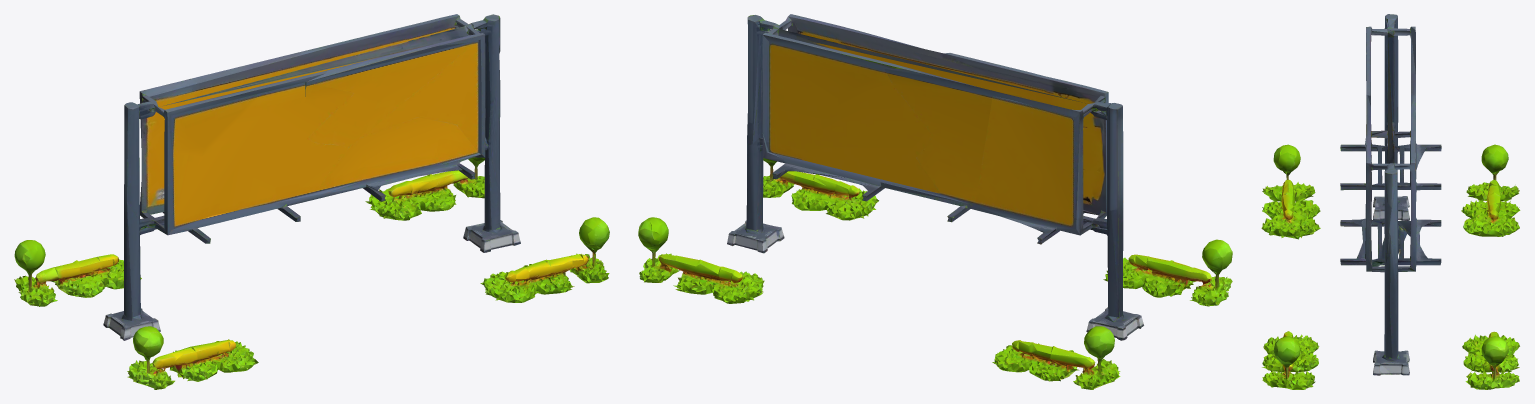
The model's file is scn_billboard.glb.
3 renders of one model, left to right at view 1: azimuth 30°, elevation 25°; view 2: azimuth 150°, elevation 25°; view 3: azimuth 270°, elevation 25°, orthographic. The views are drawn at different scales.
Size of the model in its own units: 1.9 by 0.8608 by 1.02.
Materials: 1 (1 with a texture image).
